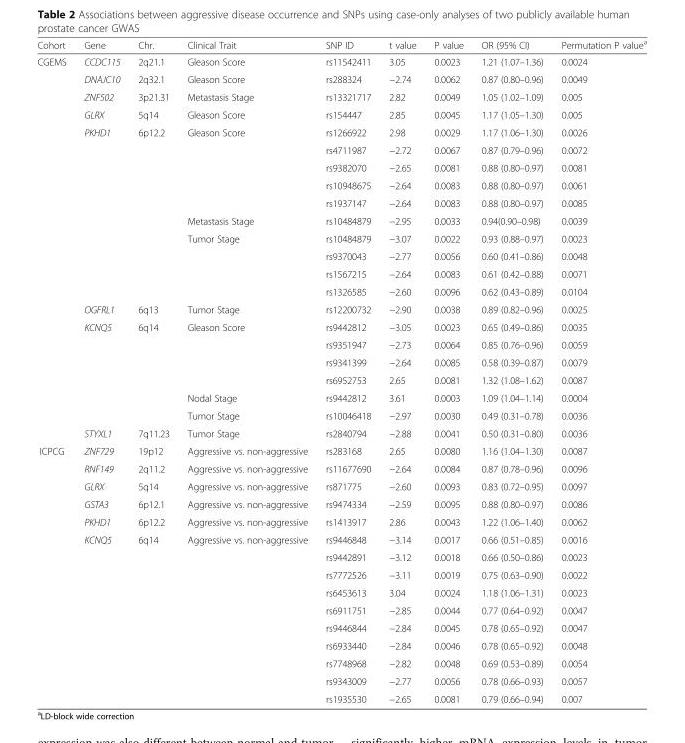table: (36, 37, 646, 704)
table column: (177, 37, 316, 704), (551, 37, 646, 704), (471, 37, 551, 704), (316, 37, 379, 704), (74, 37, 128, 704), (128, 37, 177, 704), (424, 37, 471, 704), (379, 37, 424, 704), (36, 37, 74, 704)
table column header: (36, 37, 646, 52)
table row: (36, 69, 646, 87), (36, 87, 646, 105), (36, 105, 646, 123), (36, 140, 646, 158), (36, 158, 646, 176), (36, 193, 646, 211), (36, 211, 646, 229), (36, 246, 646, 264), (36, 264, 646, 282), (36, 282, 646, 300), (36, 317, 646, 335), (36, 335, 646, 353), (36, 353, 646, 371), (36, 388, 646, 406), (36, 423, 646, 441), (36, 441, 646, 459), (36, 459, 646, 477), (36, 494, 646, 512), (36, 512, 646, 530), (36, 547, 646, 565), (36, 565, 646, 583), (36, 600, 646, 618), (36, 618, 646, 636), (36, 636, 646, 654), (36, 671, 646, 689), (36, 52, 646, 69), (36, 123, 646, 140), (36, 176, 646, 193), (36, 229, 646, 246), (36, 300, 646, 317), (36, 371, 646, 388), (36, 406, 646, 423), (36, 477, 646, 494), (36, 530, 646, 547), (36, 583, 646, 600), (36, 654, 646, 671), (36, 37, 646, 52), (36, 689, 646, 704)
table spanning cell: (177, 530, 316, 704), (36, 52, 74, 441), (177, 123, 316, 211), (36, 441, 74, 704), (177, 229, 316, 300), (177, 317, 316, 388), (74, 123, 128, 300), (74, 530, 128, 704), (128, 123, 177, 300), (128, 530, 177, 704), (74, 317, 128, 423), (128, 317, 177, 423)
